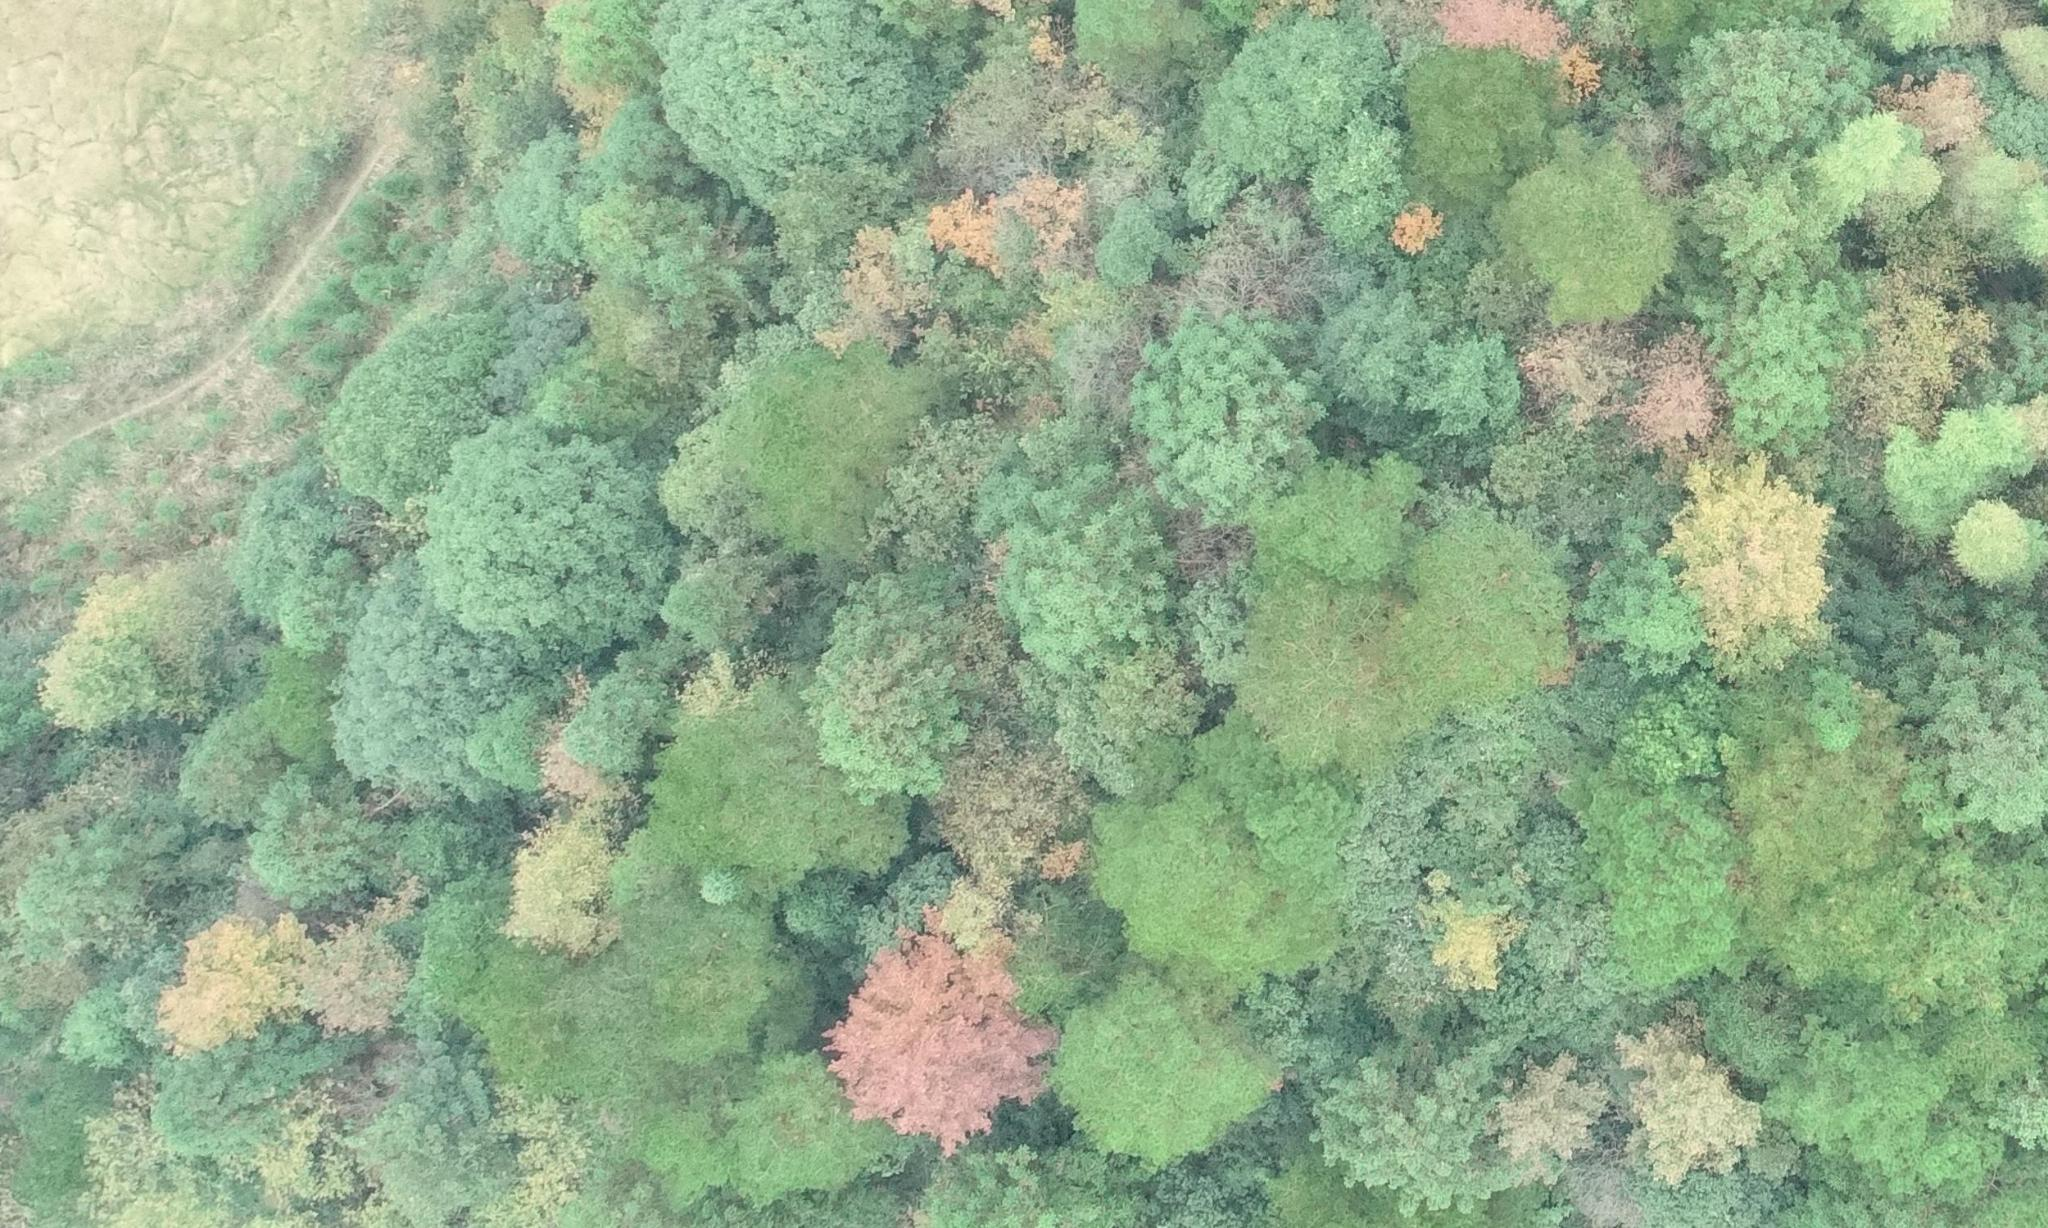heavy: (803, 925, 1104, 1172)
light: (1669, 447, 1870, 691), (1395, 0, 1653, 113), (925, 158, 1112, 300)
